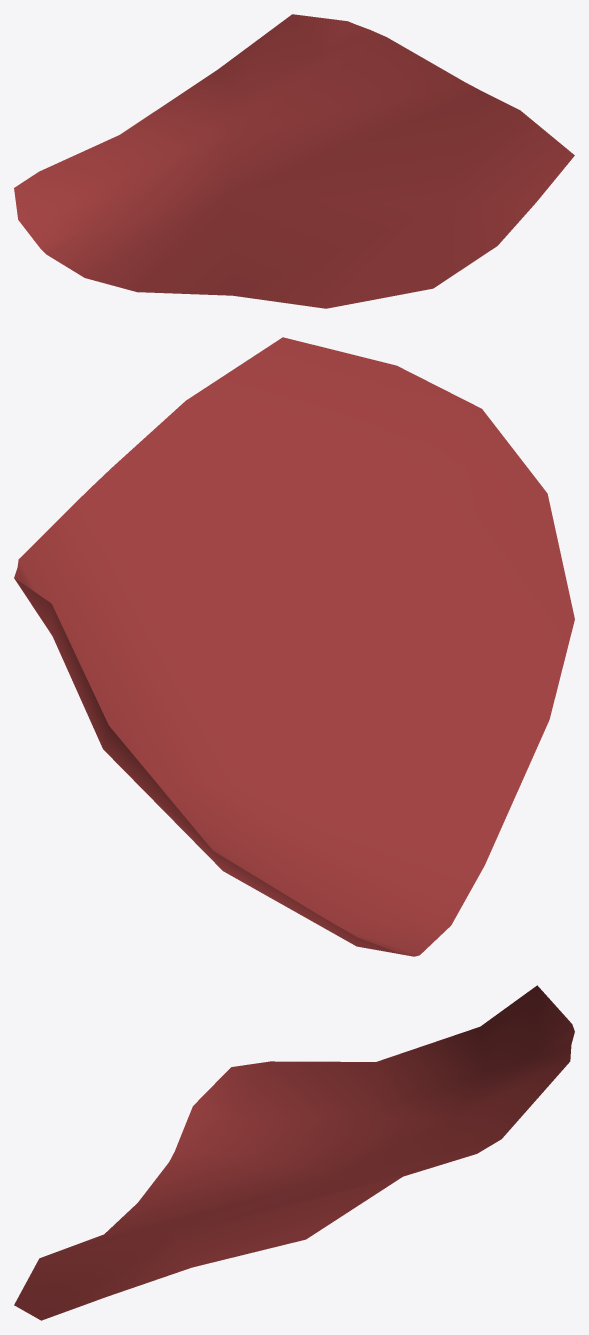
The model's file is long-plantar-ligament-o1r.glb.
3 views of the same model, one above another, from view 1: azimuth 30°, elevation 25°; view 2: azimuth 150°, elevation 25°; view 3: azimuth 330°, elevation 25° (orthographic). The views are drawn at different scales.
Parts seen in each view (by area): view 1: Long plantar ligament.o1r; view 2: Long plantar ligament.o1r; view 3: Long plantar ligament.o1r.
Part boxes in pixels (x1,y1,x2,y2): Long plantar ligament.o1r: (14, 14, 574, 308); Long plantar ligament.o1r: (14, 337, 574, 956); Long plantar ligament.o1r: (14, 985, 574, 1320).
Bounding box in the file's own units: 0.00714 × 0.00387 × 0.0107.
